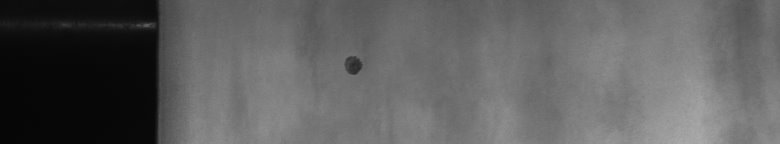fi: (340, 49, 368, 80)
